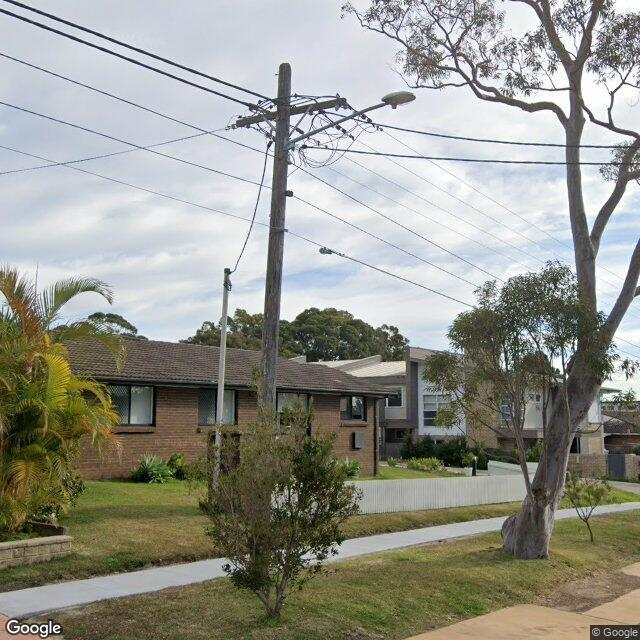crossarm: (236, 95, 348, 131)
steel-pole: (209, 269, 231, 514)
streetlight: (286, 90, 418, 150)
timber-pole: (246, 63, 292, 577)
